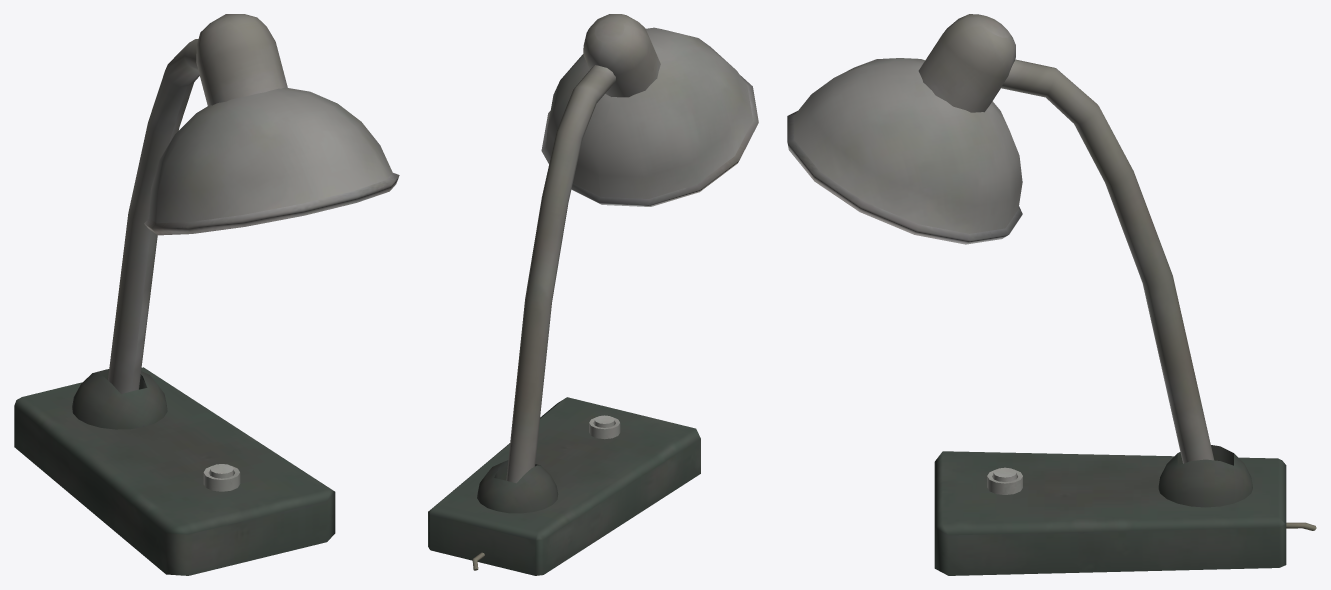
File: desk-lamp-old.glb
3 views of the same model, side by side, from view 1: azimuth 30°, elevation 25°; view 2: azimuth 150°, elevation 25°; view 3: azimuth 270°, elevation 25° (orthographic). The views are drawn at different scales.
Visible parts, largest first — view 1: Object_5; view 2: Object_5; view 3: Object_5.
Part boxes in pixels (left/top/right/bottom): Object_5: left=14, top=14, right=399, bottom=575; Object_5: left=428, top=14, right=758, bottom=575; Object_5: left=787, top=14, right=1316, bottom=575.
Bounding box in the file's own units: 0.1792 × 0.4 × 0.3712.
Materials: 1 (1 with a texture image).
